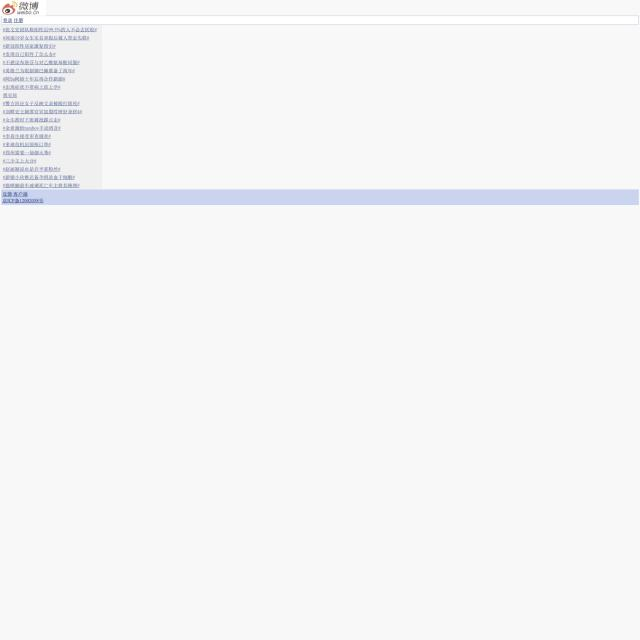date picker: (0, 0, 46, 16)
decoration: (0, 25, 102, 189)
